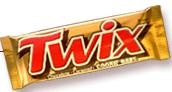grozi_11: (0, 5, 169, 90)
